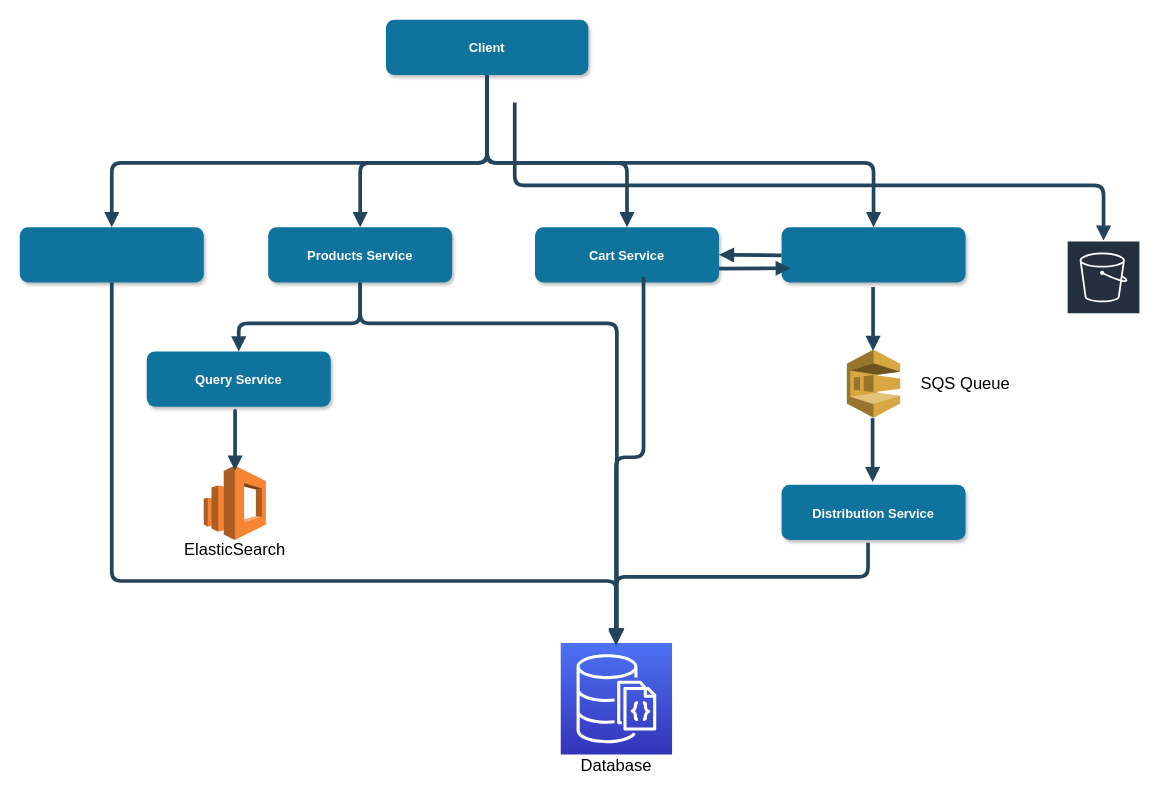
Image size: 1156x800. Some labels were removed from this diagram. Here are the shapes that lost their labels. From the top down, the centre of each, then its label:
At [112,255]: "Communication Service".
At [874,255]: "Checkout Service".
At [1103,286]: "Amazon S3".
